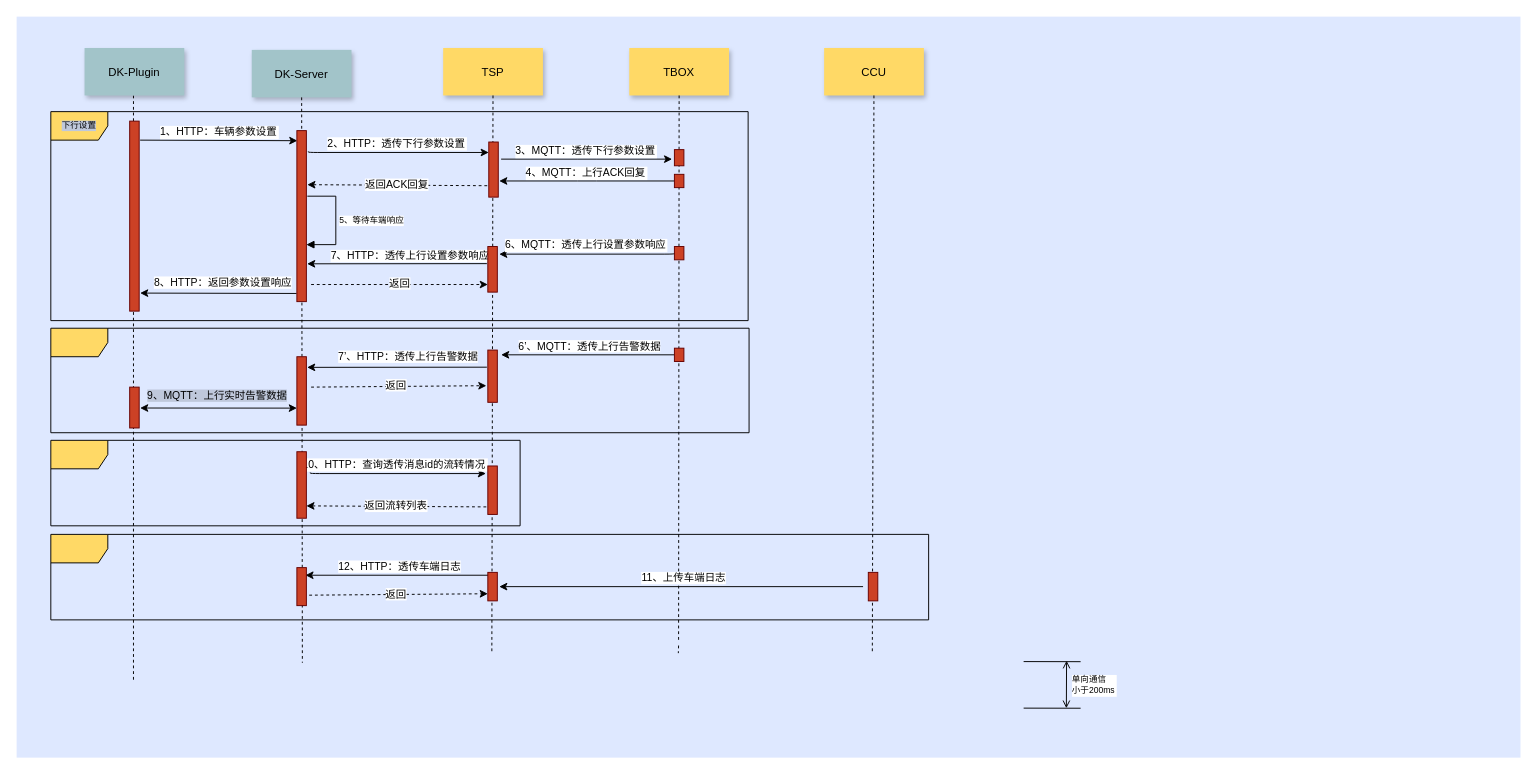
Some shapes in this 1536 by 773 pixel diagram are drawn without their labels. The centre of each missing label's shape, as x and y in pixels:
"实时告警" belongs at pixel 399 380.
"车端日志" belongs at pixel 489 576.
"透传查询" belongs at pixel 285 482.
